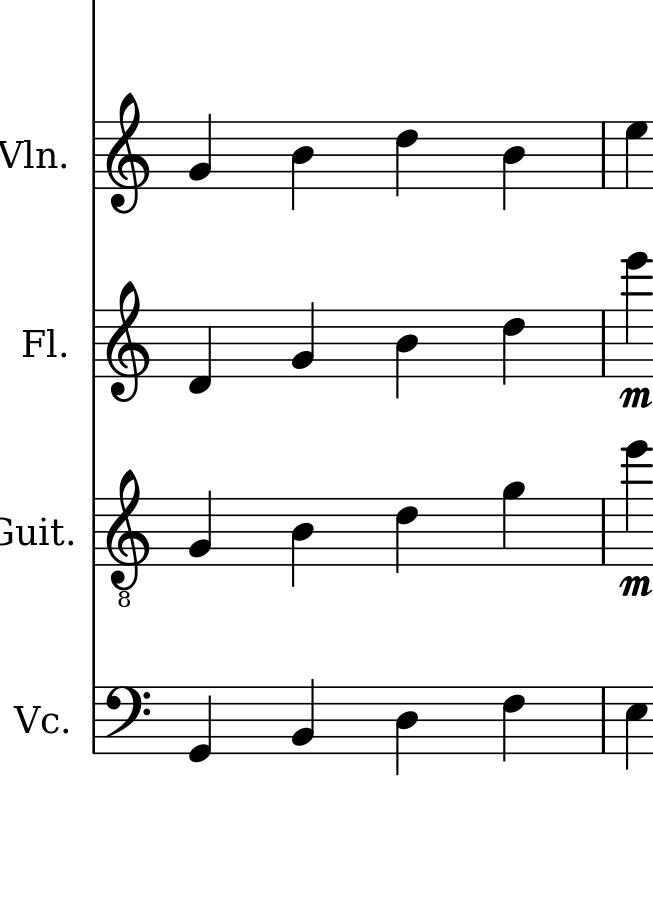4_-1: (187, 308, 213, 396)
4_0: (188, 682, 214, 766)
4_14: (620, 251, 653, 378), (620, 439, 653, 566)
4_2: (188, 112, 214, 189), (188, 489, 214, 566), (291, 300, 316, 379), (291, 677, 316, 755)
4_4: (290, 497, 315, 588), (290, 120, 315, 210), (394, 686, 419, 776), (394, 310, 419, 399), (502, 120, 526, 210)
4_5: (623, 686, 650, 771)
4_6: (394, 495, 418, 574), (501, 308, 525, 386), (501, 685, 525, 762), (395, 120, 418, 197)
4_7: (623, 119, 648, 190)
4_9: (501, 478, 525, 569)
Fclef: (102, 682, 150, 754)
Fl: (20, 325, 58, 360)
Gclef: (102, 92, 152, 216), (103, 278, 148, 405)
Guit: (1, 511, 65, 549)
Lower_Gclef: (102, 469, 152, 608)
Single_barline: (596, 122, 612, 187), (596, 500, 611, 565), (597, 688, 612, 753), (88, 686, 102, 754), (88, 122, 102, 188), (88, 311, 101, 377), (597, 312, 610, 376), (89, 498, 101, 566)
Vln: (1, 135, 58, 176)
mp: (615, 573, 650, 603), (616, 384, 650, 413)
